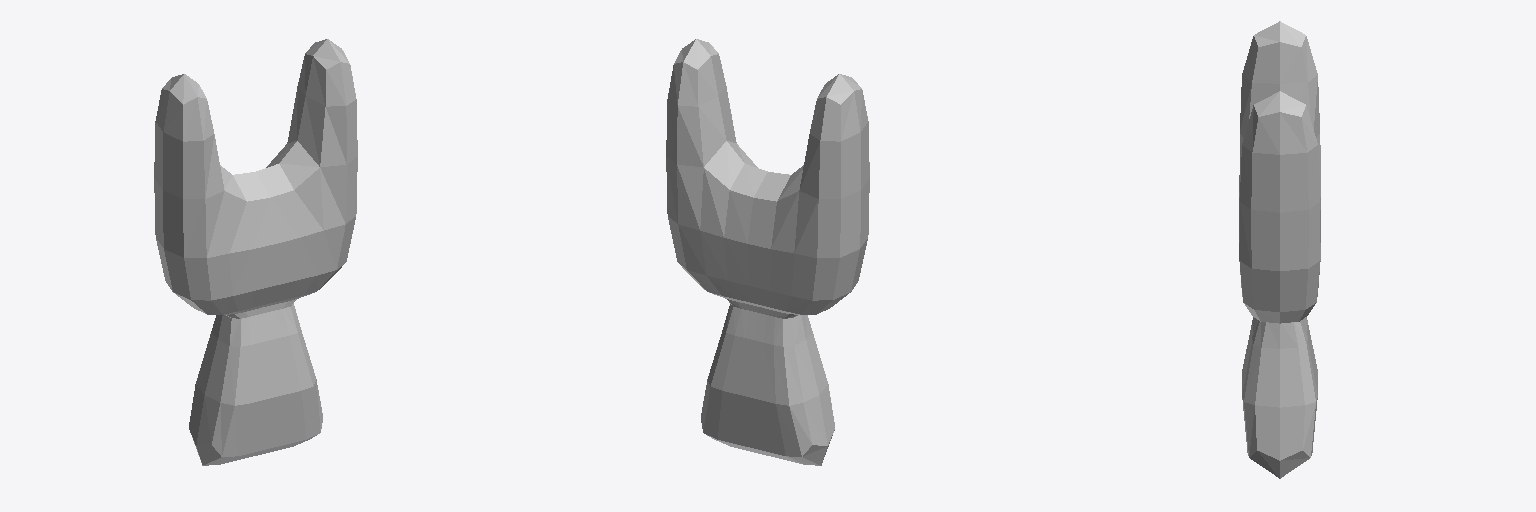
The model's file is usagi_v1.obj.
3 views of the same model, side by side, from view 1: azimuth 30°, elevation 25°; view 2: azimuth 150°, elevation 25°; view 3: azimuth 270°, elevation 25° (orthographic).
Parts seen in each view (by area): view 1: Cube; view 2: Cube; view 3: Cube.
Part boxes in pixels (bbox=[...]): Cube: bbox=[154, 39, 357, 465]; Cube: bbox=[666, 39, 869, 465]; Cube: bbox=[1239, 21, 1320, 478].
Size of the model in its own units: 2.48 by 5.07 by 0.9527.